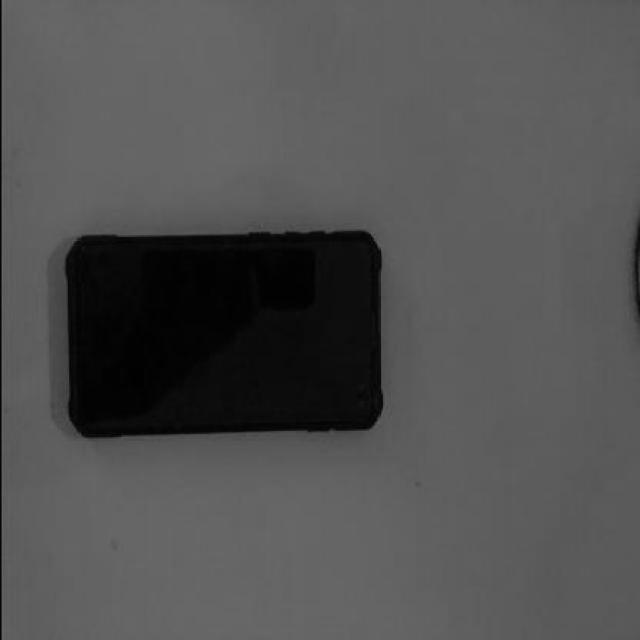fake: (62, 232, 380, 438)
